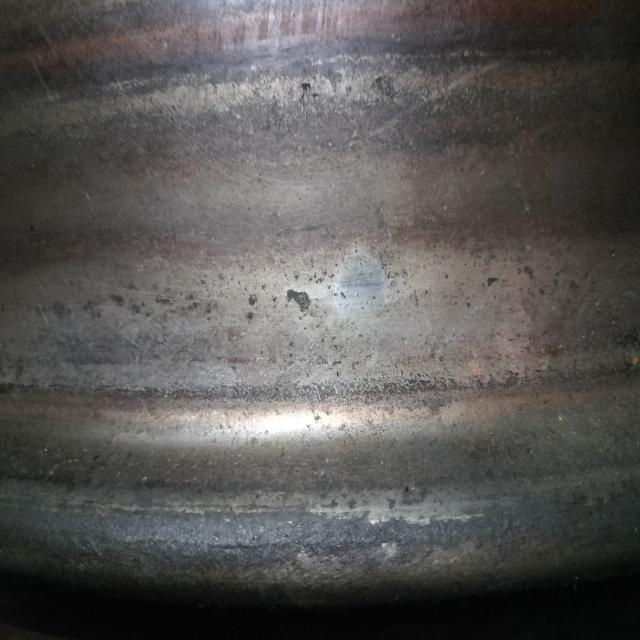Peeling: (320, 243, 405, 332)
